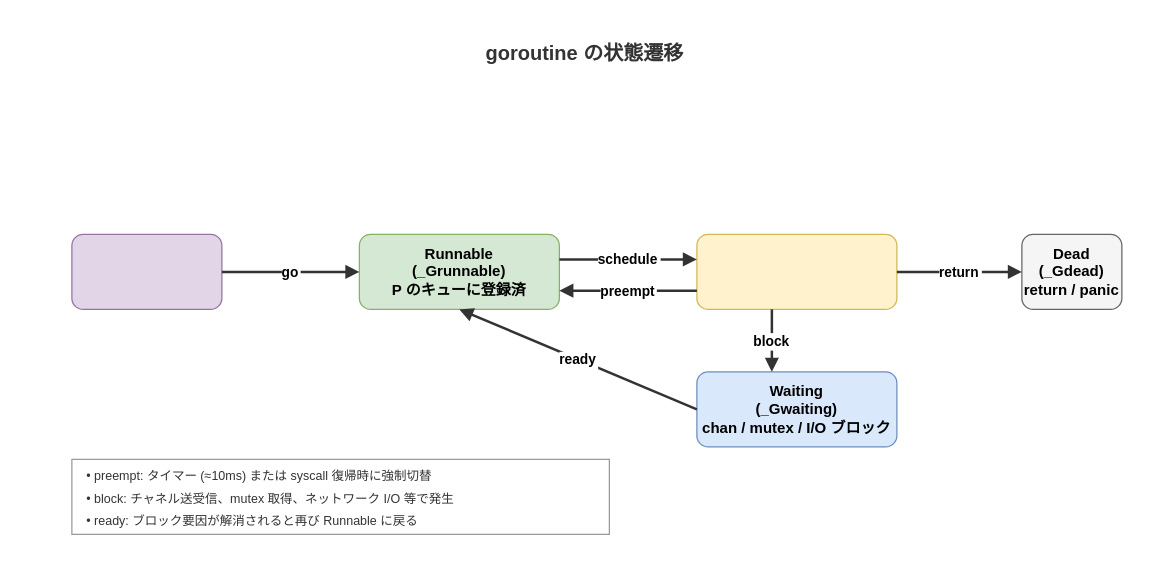
Some shapes in this 1168 by 568 pixel diagram are drawn without their labels. The shapes that lost their labels are listed below. From the top down, each one's centre as x and y in pixels, then its label:
pixel 146 271: Created (go f())
pixel 796 271: Running (_Grunning) M 上で CPU を消費中
